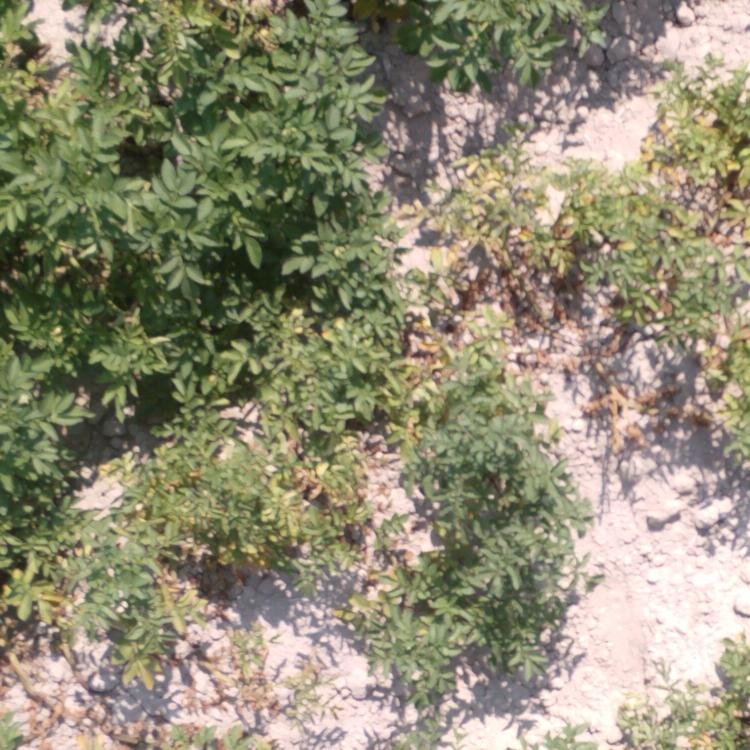healthy: (117, 52, 361, 267), (3, 56, 105, 471), (405, 435, 562, 671), (119, 290, 270, 372), (433, 7, 610, 71)
stressed: (665, 90, 750, 443), (165, 421, 371, 565), (451, 180, 665, 306), (20, 514, 170, 692), (280, 311, 480, 417), (643, 646, 745, 744)
